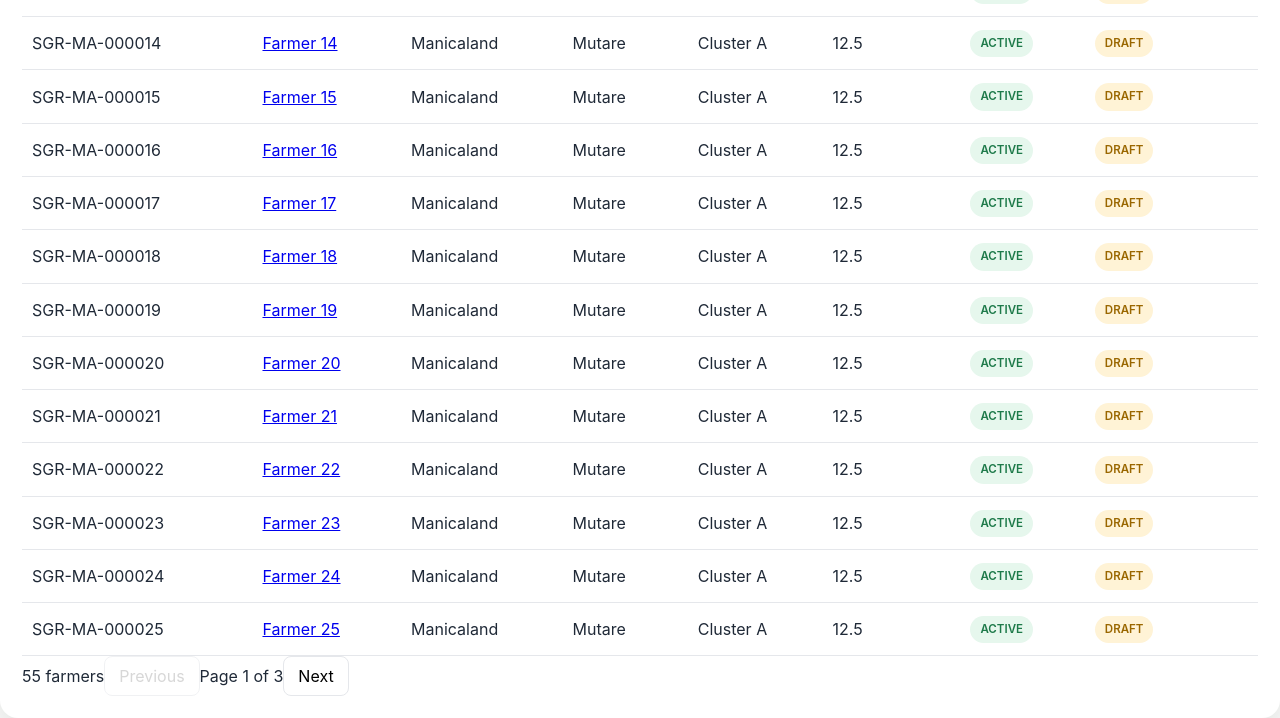
Test: FarmersPage pagination › supports previous and next pagination and resets to page 1 when searching
(page scrolled)
Expected: the text "55 farmers" is shown, x1=22 y1=666 x2=104 y2=686
Expected: the text "Page 1 of 3" is shown, x1=200 y1=666 x2=283 y2=686
Click the button "Next": (316, 676) x1=283 y1=656 x2=349 y2=696
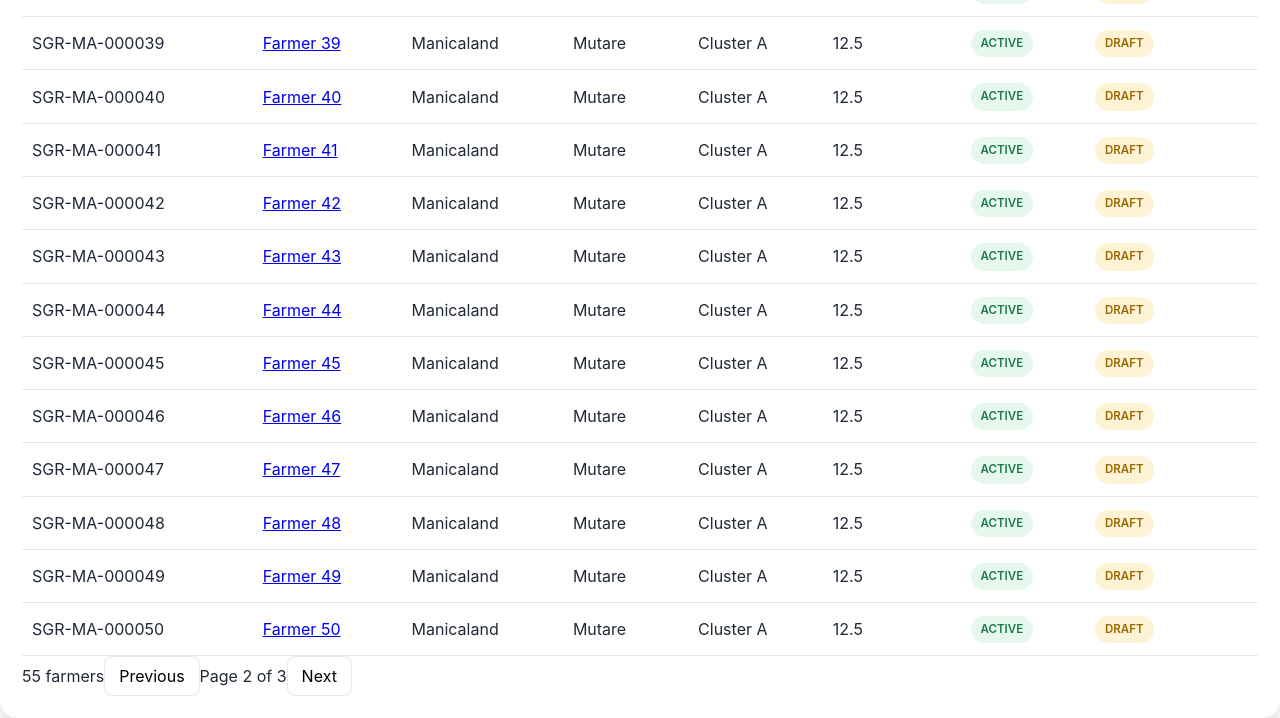
Result: the text "Page 2 of 3" is shown at x1=200 y1=666 x2=287 y2=686
Click the button "Next": (319, 676) x1=287 y1=656 x2=352 y2=696
(page scrolled)
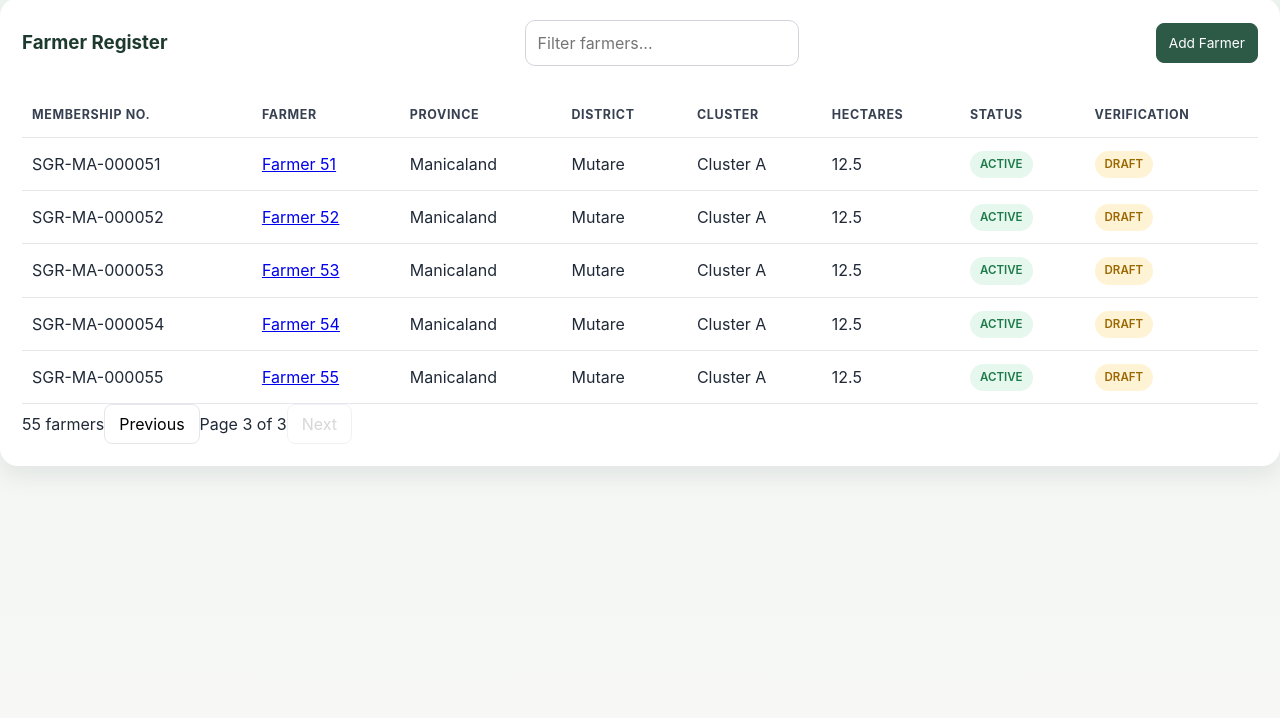
Result: the cell "Farmer 51" is shown at x1=252 y1=137 x2=400 y2=190
Result: the text "Page 3 of 3" is shown at x1=200 y1=414 x2=287 y2=434
Result: the button "Next" is disabled at x1=287 y1=404 x2=352 y2=444
Click the button "Previous": (152, 424) x1=104 y1=404 x2=200 y2=444
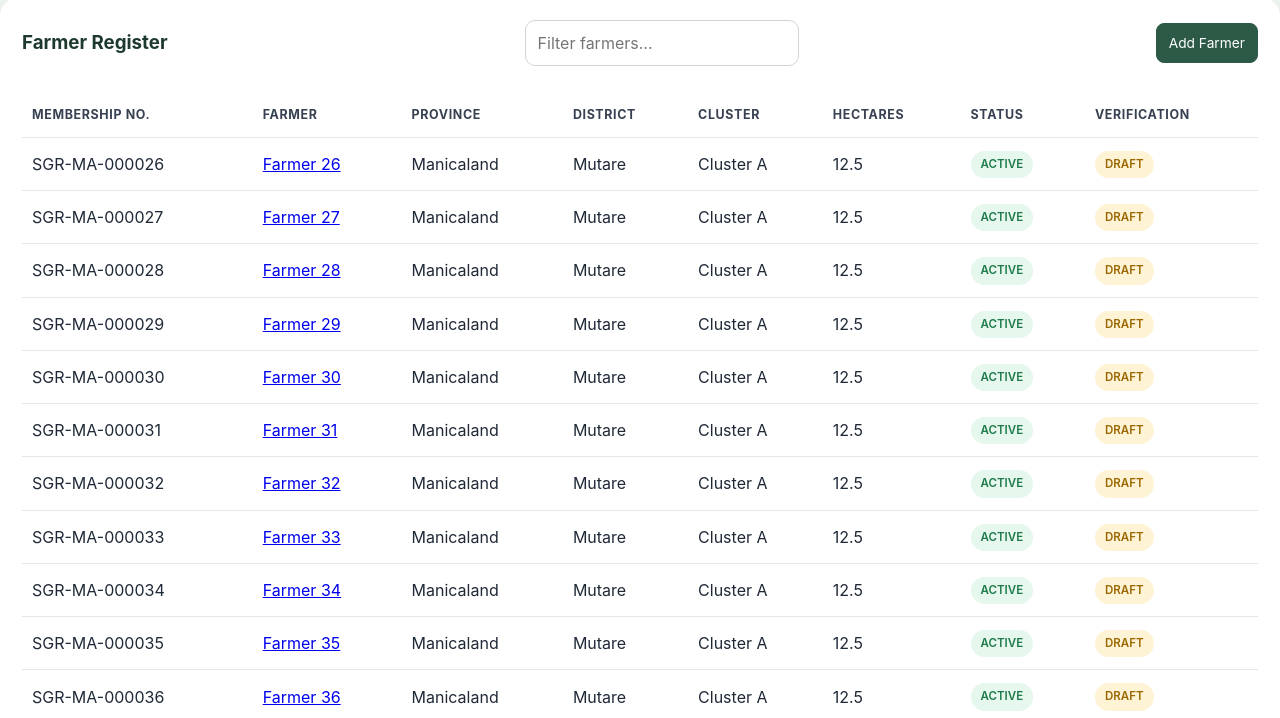
Result: the cell "Farmer 26" is shown at x1=253 y1=137 x2=402 y2=190
In the search field labelled "Filter farmers...": (662, 43) x1=525 y1=20 x2=799 y2=66, type "Needle"
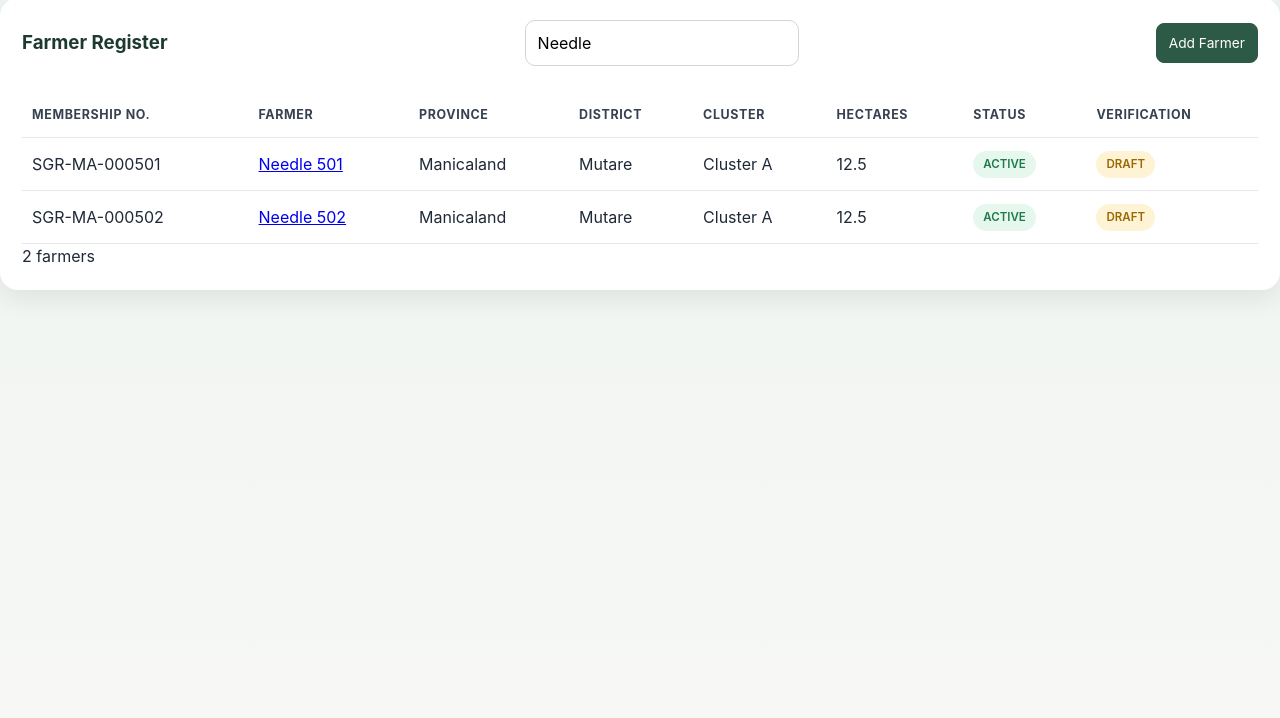
Expected: the button "Previous" is not shown
Result: the cell "Needle 501" is shown at x1=248 y1=137 x2=409 y2=190
Result: the text "2 farmers" is shown at x1=22 y1=246 x2=95 y2=266
